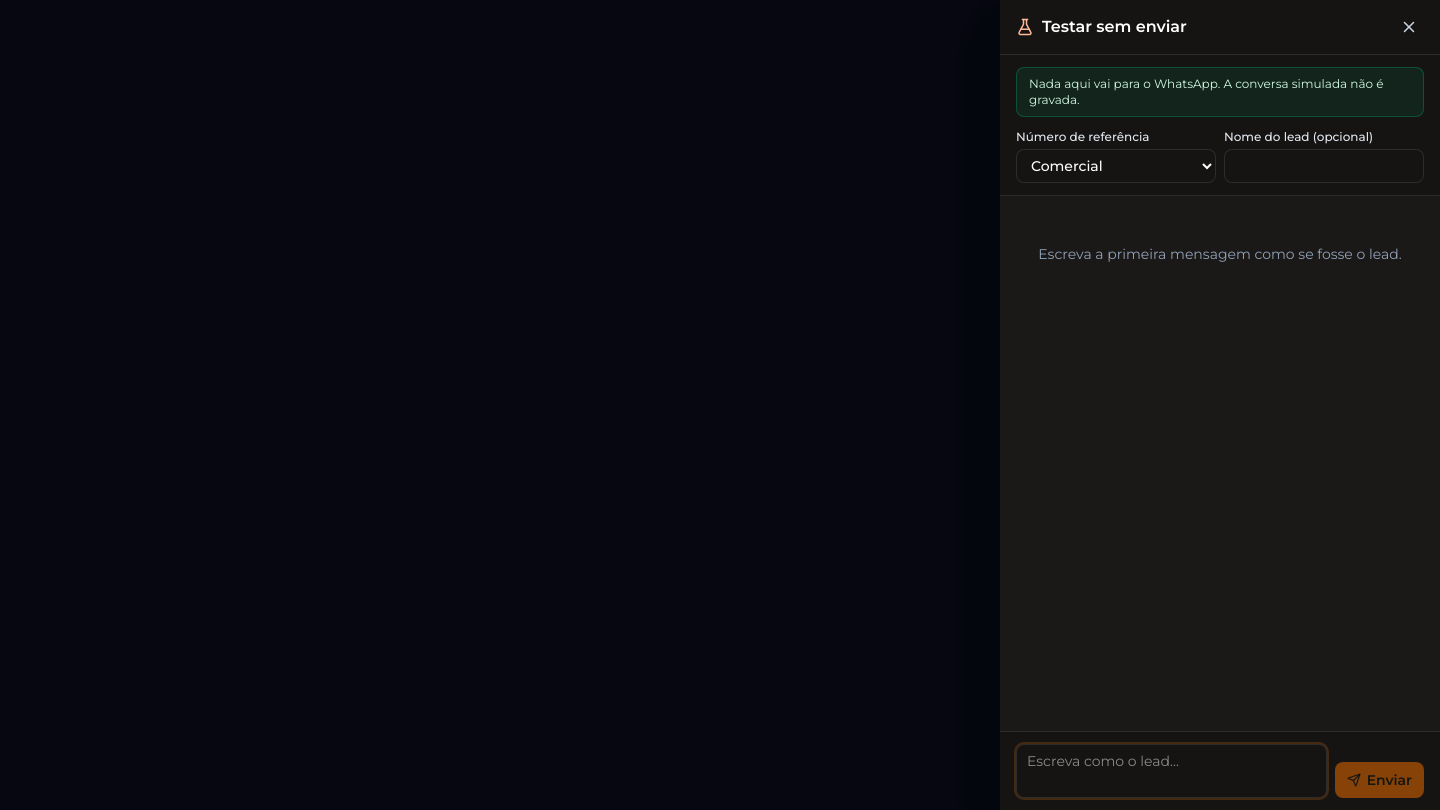
Test case: PainelDeTeste › explicar manda o retrato e a resposta exatamente como vieram do teste; sem retrato não há botão; vencido mostra o motivo
In the text box named "Mensagem do lead": (1171, 771) [1016,744,1327,798], type "Quero falar com alguém"
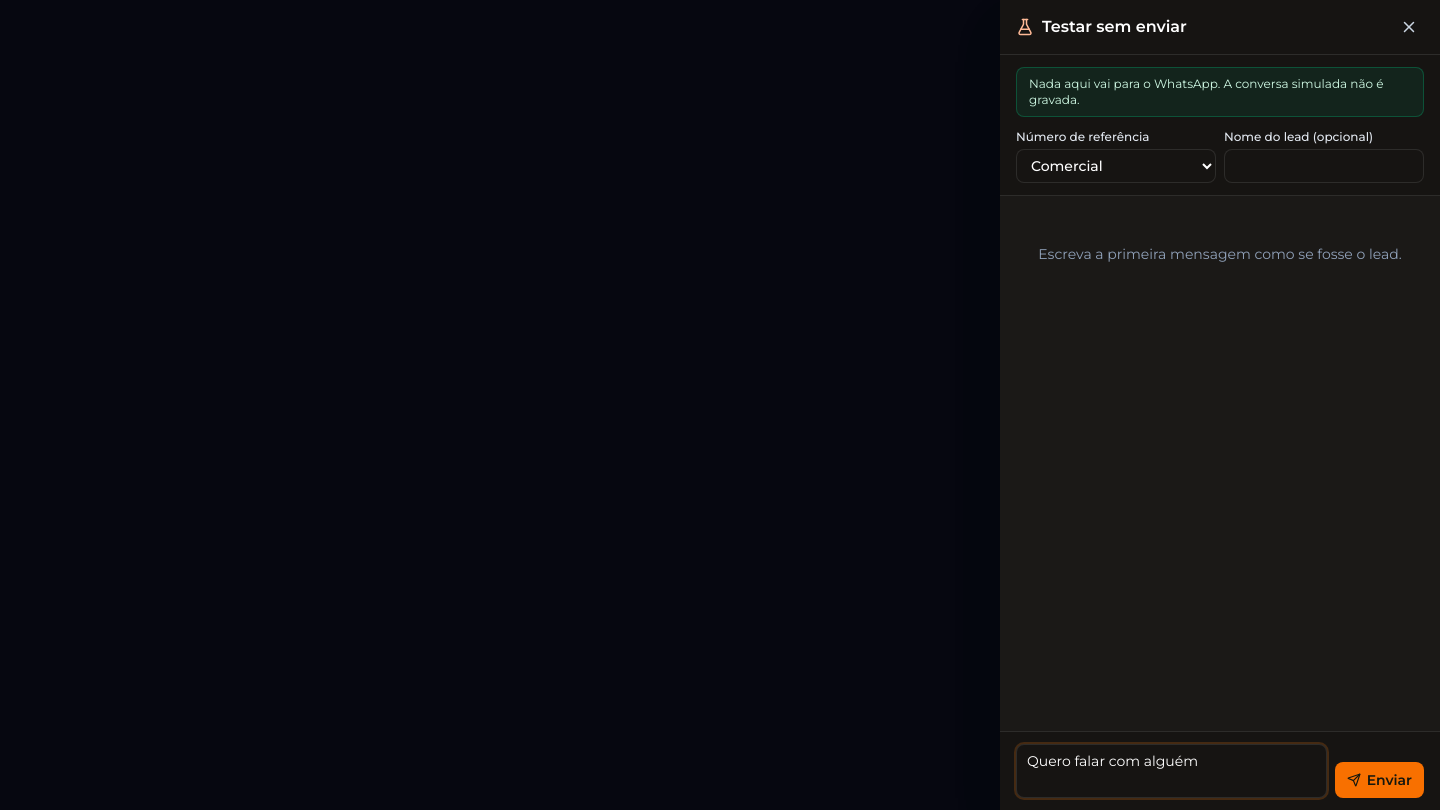
Click the button "Enviar": (1379, 780) [1335,762,1424,798]
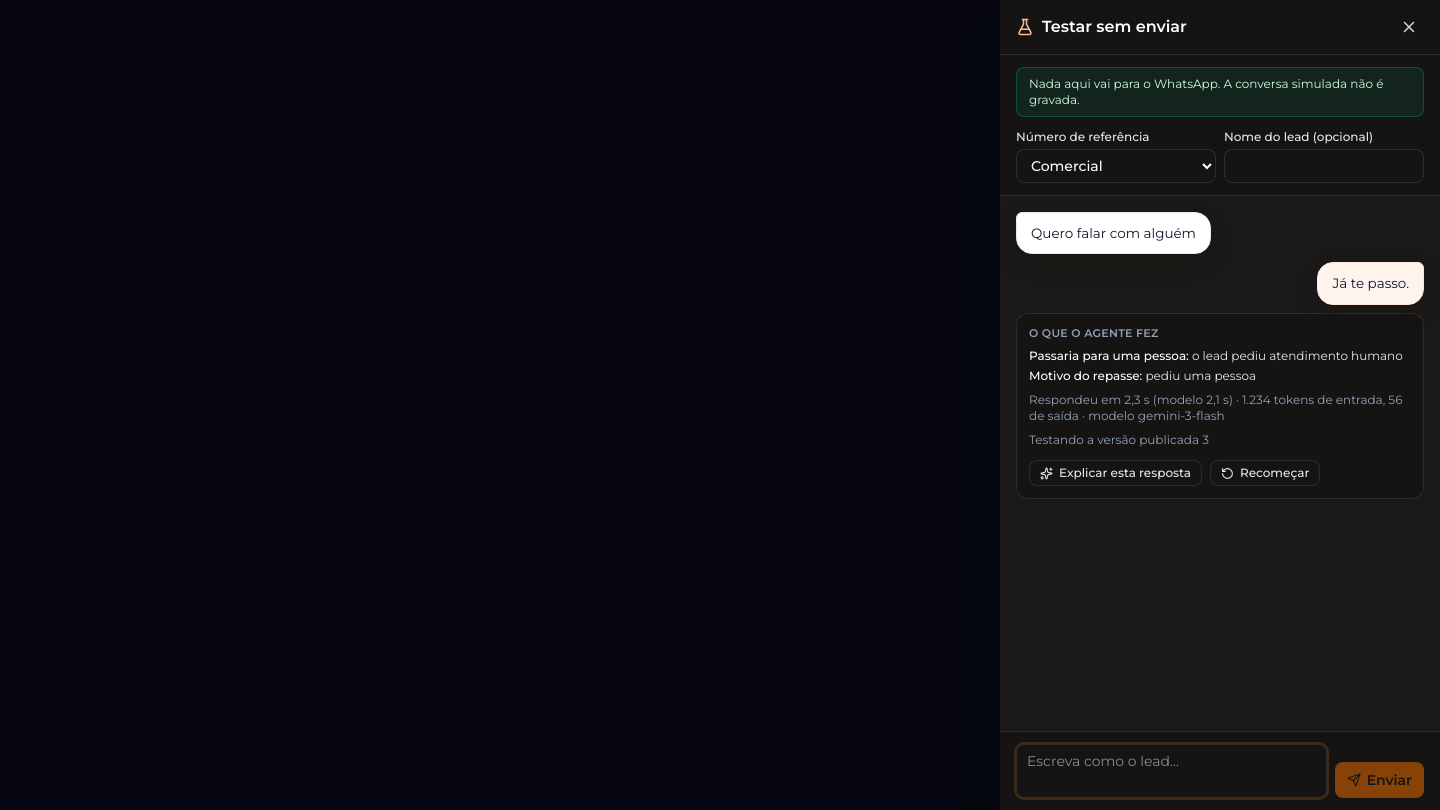
Check: the text "Testando a versão publicada 3" is shown, box [1029,432,1209,447]
Click the button "Explicar esta resposta": (1115, 473) [1029,460,1202,486]
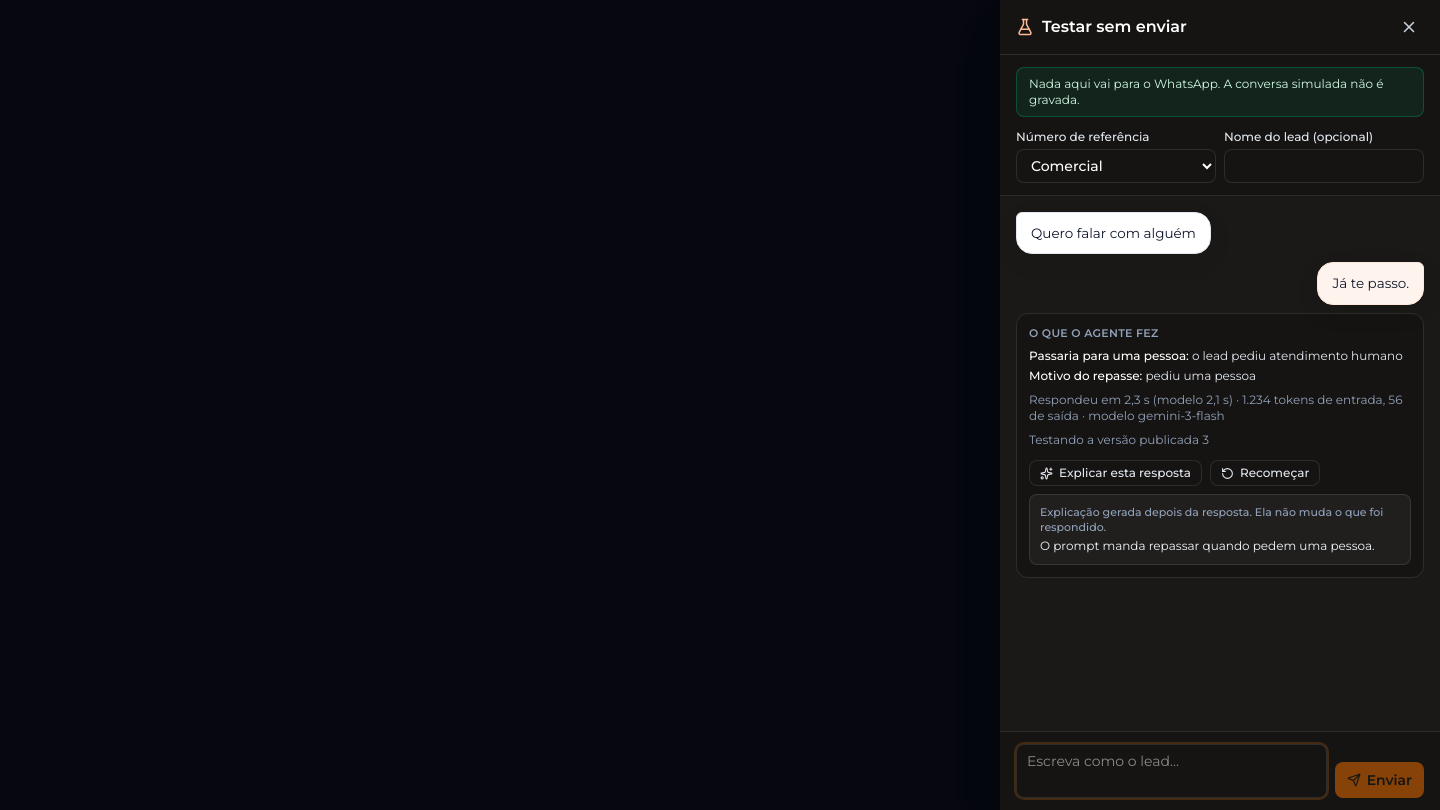
Check: the text "O prompt manda repassar quando pedem uma pessoa." is shown, box [1040,538,1400,554]
Check: the text "Explicação gerada depois da resposta. Ela não muda o que foi respondido." is shown, box [1040,505,1400,534]
Click the button "Explicar esta resposta": (1115, 473) [1029,460,1202,486]
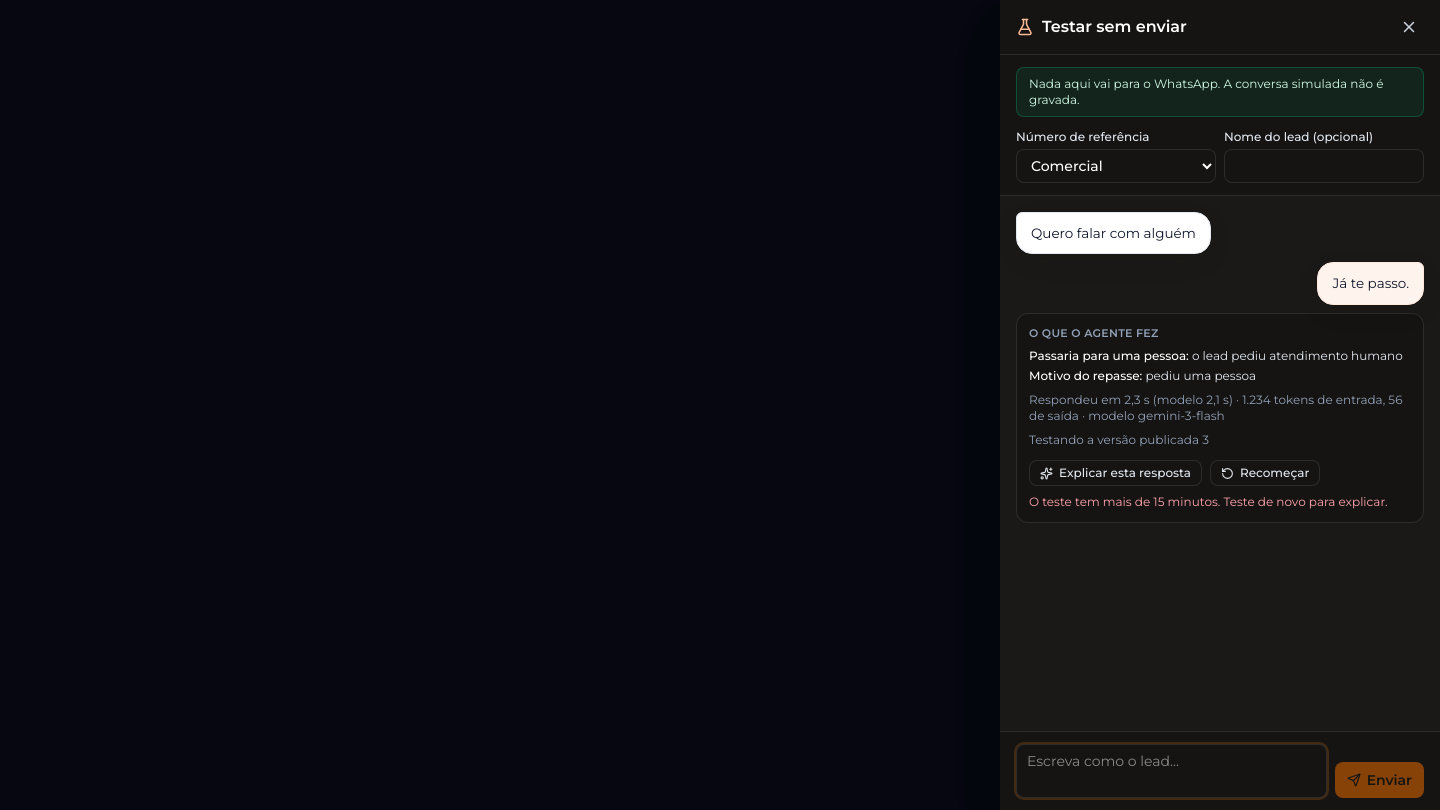
Check: the text "O teste tem mais de 15 minutos. Teste de novo para explicar." is shown, box [1029,494,1411,510]
